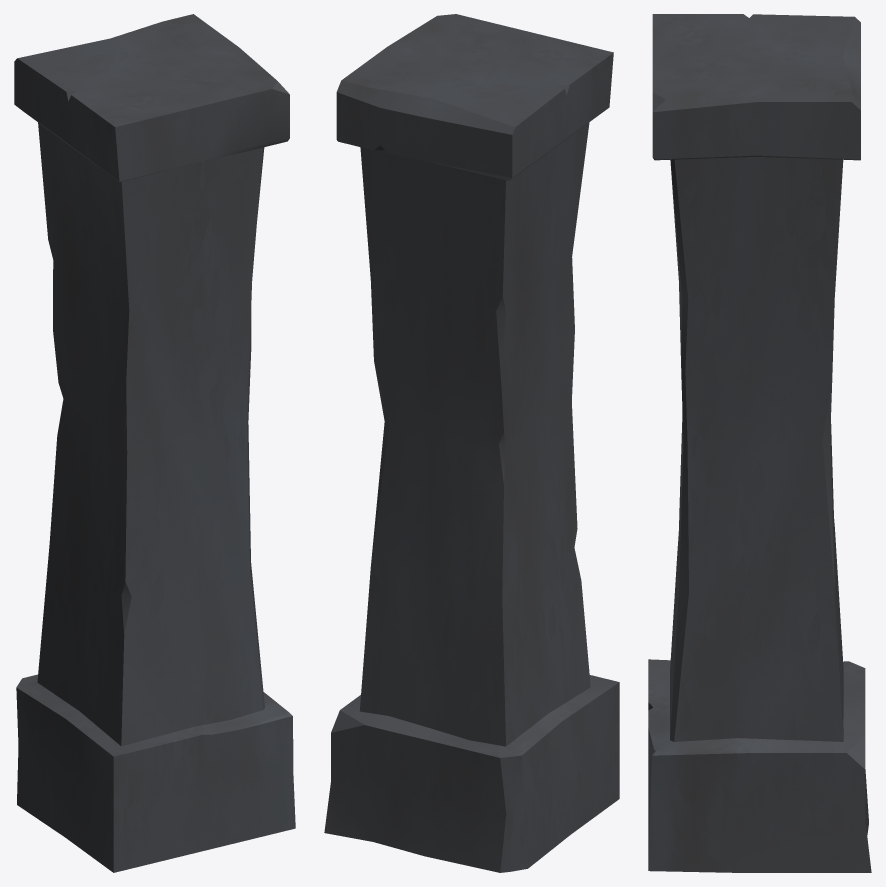
File: ruins_pillar.fbx
3 views of the same model, side by side, from view 1: azimuth 30°, elevation 25°; view 2: azimuth 150°, elevation 25°; view 3: azimuth 270°, elevation 25° (orthographic). The views are drawn at different scales.
Visible parts, largest first — view 1: pillar; view 2: pillar; view 3: pillar.
Part boxes in pixels (box(x1,y1,x2,y2)): pillar: box(14, 14, 295, 872); pillar: box(324, 14, 619, 872); pillar: box(648, 14, 871, 872).
Bounding box in the file's own units: 62.14 × 234 × 61.72.
